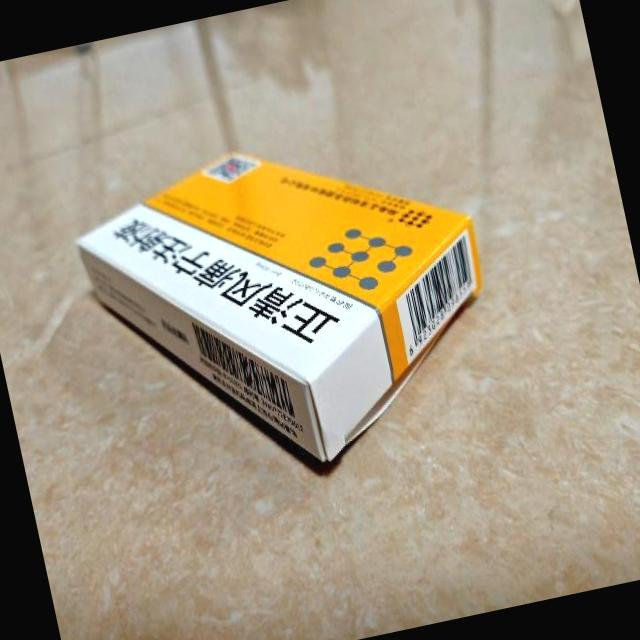box: (63, 105, 514, 502)
